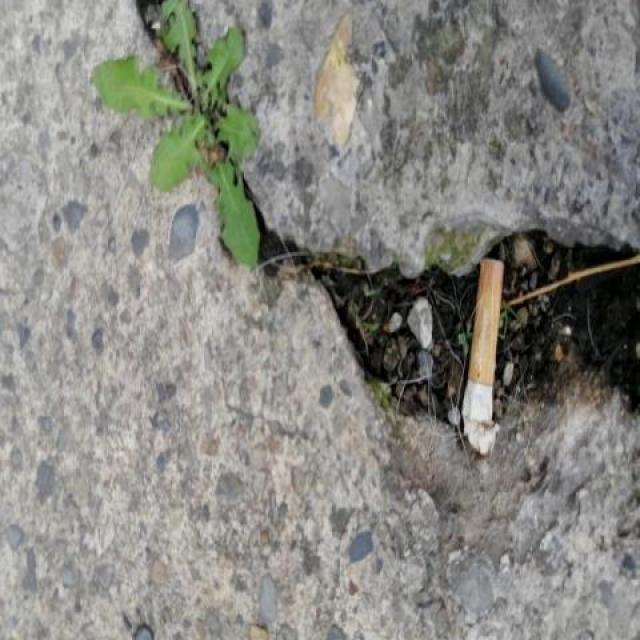non-organic waste: (455, 253, 508, 458)
